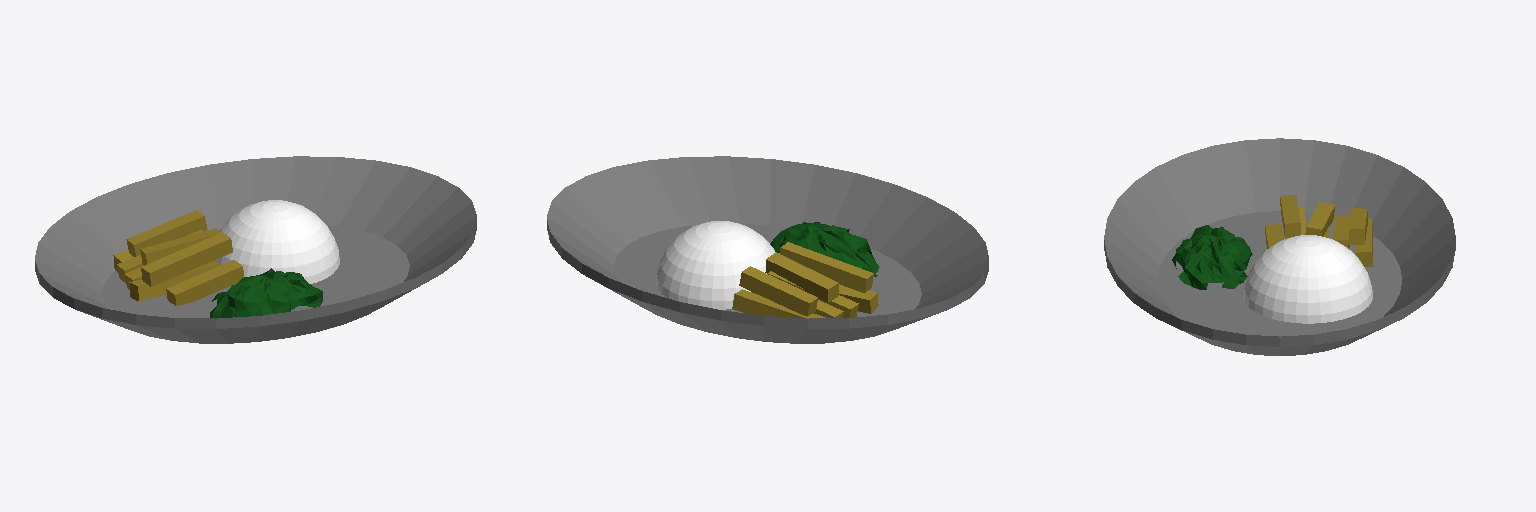
Rendered from rice1_meat3_veg1.obj.
3 renders of one model, left to right at view 1: azimuth 30°, elevation 25°; view 2: azimuth 150°, elevation 25°; view 3: azimuth 270°, elevation 25°, orthographic.
Visible parts, largest first — view 1: Cylinder, Sphere, Sphere.001, Cube.007, Cube.004_Cube.005, Cube.005_Cube.000, Cube.002_Cube.003, Cube.006; view 2: Cylinder, Sphere, Sphere.001, Cube.007, Cube.005_Cube.000, Cube.006, Cube.003_Cube.004, Cube.002_Cube.003, Cube.001_Cube.002; view 3: Cylinder, Sphere, Sphere.001, Cube.007, Cube.006, Cube.005_Cube.000.
Part boxes in pixels (bbox=[...]): Cylinder: bbox=[35, 156, 476, 343]; Sphere: bbox=[214, 200, 339, 283]; Sphere.001: bbox=[210, 268, 322, 318]; Cube.007: bbox=[141, 232, 232, 286]; Cube.004_Cube.005: bbox=[166, 260, 243, 305]; Cube.005_Cube.000: bbox=[126, 210, 207, 256]; Cube.002_Cube.003: bbox=[129, 261, 220, 301]; Cube.006: bbox=[140, 228, 220, 265]; Cylinder: bbox=[547, 156, 988, 343]; Sphere: bbox=[656, 221, 775, 309]; Sphere.001: bbox=[770, 222, 879, 276]; Cube.007: bbox=[780, 242, 873, 292]; Cube.005_Cube.000: bbox=[739, 266, 817, 316]; Cube.006: bbox=[765, 252, 838, 302]; Cube.003_Cube.004: bbox=[732, 289, 825, 318]; Cube.002_Cube.003: bbox=[839, 284, 878, 313]; Cube.001_Cube.002: bbox=[767, 271, 858, 317]; Cylinder: bbox=[1104, 138, 1455, 355]; Sphere: bbox=[1243, 235, 1372, 323]; Sphere.001: bbox=[1172, 225, 1252, 289]; Cube.007: bbox=[1280, 195, 1300, 238]; Cube.006: bbox=[1305, 202, 1334, 236]; Cube.005_Cube.000: bbox=[1349, 208, 1367, 244].
Size of the model in its own units: 5.75 by 0.85 by 4.31.